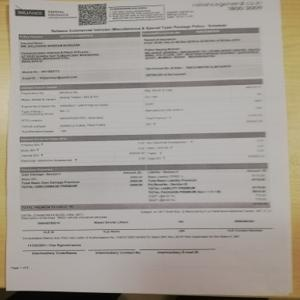image: (15, 7, 46, 18)
table: (16, 27, 264, 79), (20, 79, 267, 131), (19, 162, 268, 202), (19, 132, 268, 162)
